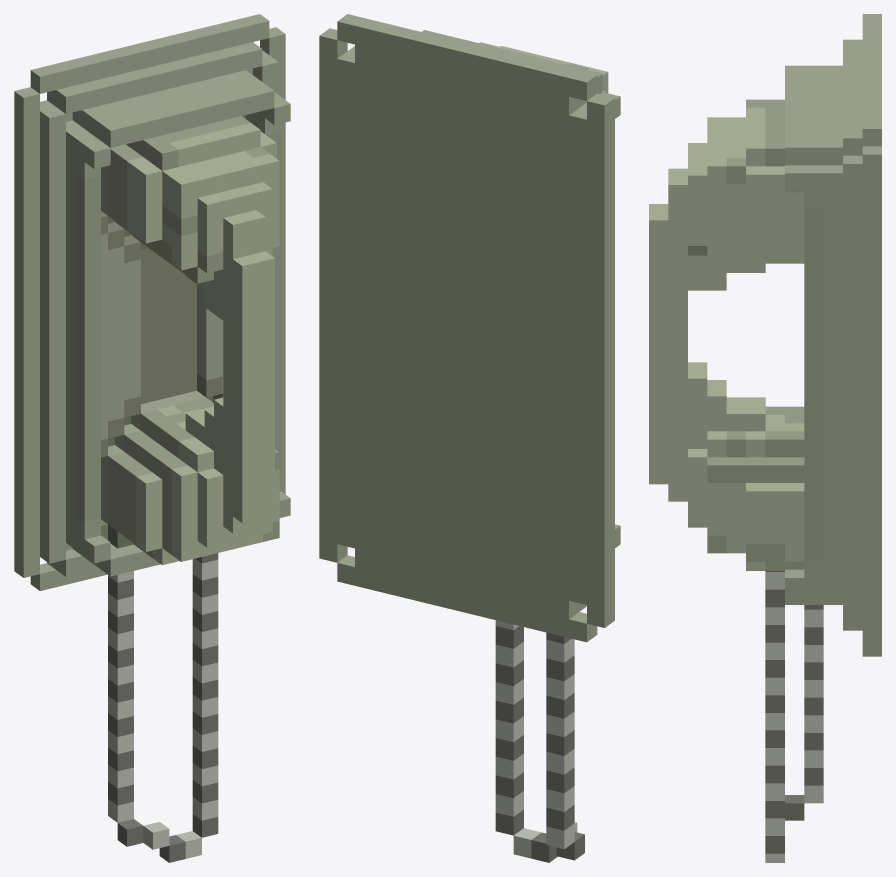
Rendered from 1980s Wall Mounted Landline Phone.fbx.
3 views of the same model, side by side, from view 1: azimuth 30°, elevation 25°; view 2: azimuth 150°, elevation 25°; view 3: azimuth 270°, elevation 25° (orthographic). The views are drawn at different scales.
Parts seen in each view (by area): view 1: 1980sWallLandlinePhone; view 2: 1980sWallLandlinePhone; view 3: 1980sWallLandlinePhone.
Part boxes in pixels (bbox=[...]): 1980sWallLandlinePhone: bbox=[14, 14, 290, 862]; 1980sWallLandlinePhone: bbox=[319, 14, 620, 862]; 1980sWallLandlinePhone: bbox=[649, 14, 881, 862].
Bounding box in the file's own units: 1600 × 4500 × 1200.
